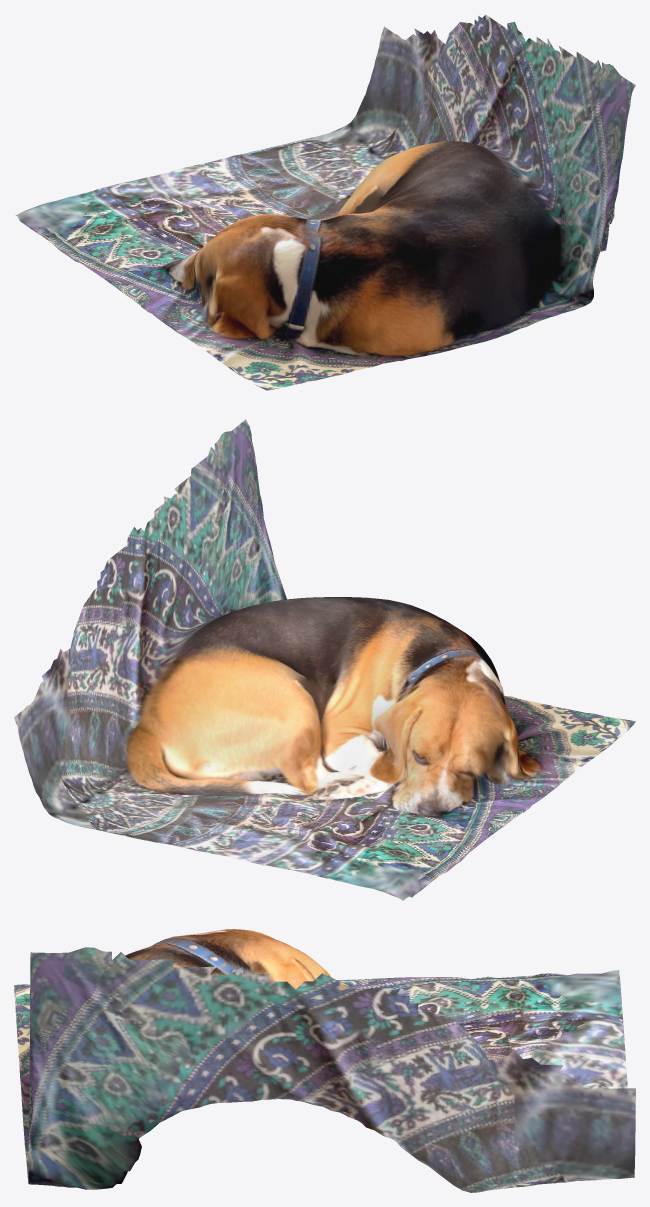
The model's file is sleepy_dog__lidar.glb.
3 views of the same model, one above another, from view 1: azimuth 30°, elevation 25°; view 2: azimuth 150°, elevation 25°; view 3: azimuth 270°, elevation 25° (orthographic). The views are drawn at different scales.
Visible parts, largest first — view 1: cropped_textured_meshobjcleanermaterialmergergles; view 2: cropped_textured_meshobjcleanermaterialmergergles; view 3: cropped_textured_meshobjcleanermaterialmergergles.
Boxes of the visible parts, <box> form: cropped_textured_meshobjcleanermaterialmergergles: <box>15,14,635,390</box>; cropped_textured_meshobjcleanermaterialmergergles: <box>14,419,635,900</box>; cropped_textured_meshobjcleanermaterialmergergles: <box>14,929,635,1192</box>.
Size of the model in its own units: 0.6483 by 0.3603 by 0.7091.
Materials: 1 (1 with a texture image).
